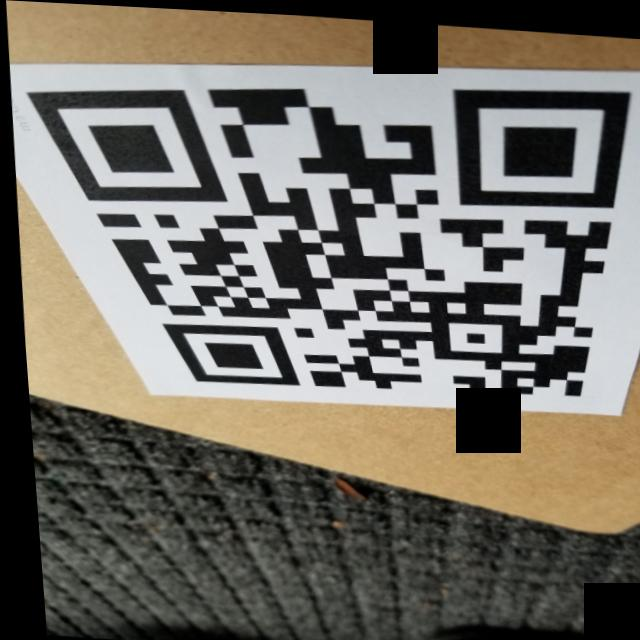QR_CODE: (7, 33, 640, 416)
